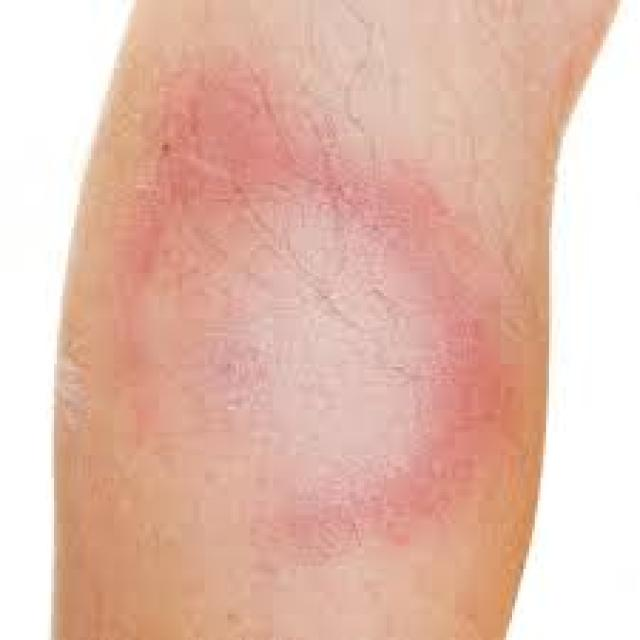kene: (91, 43, 562, 593)
